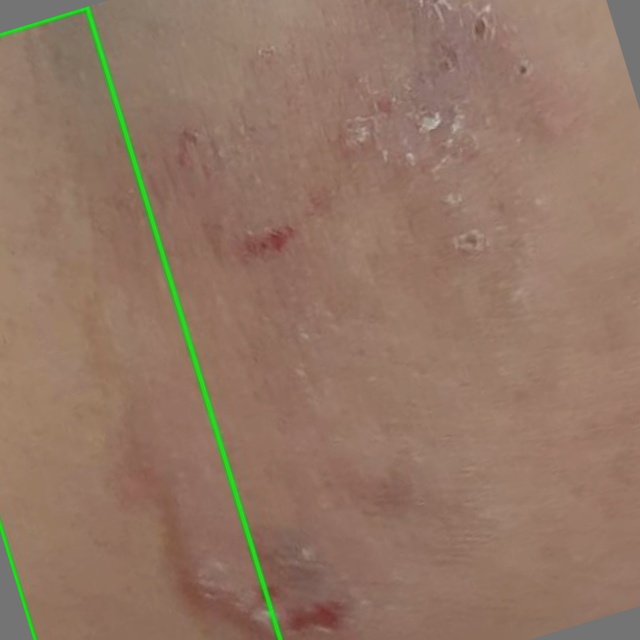Tinea Corporis: (0, 7, 280, 639)
